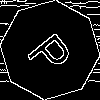P: (25, 25, 81, 79)
